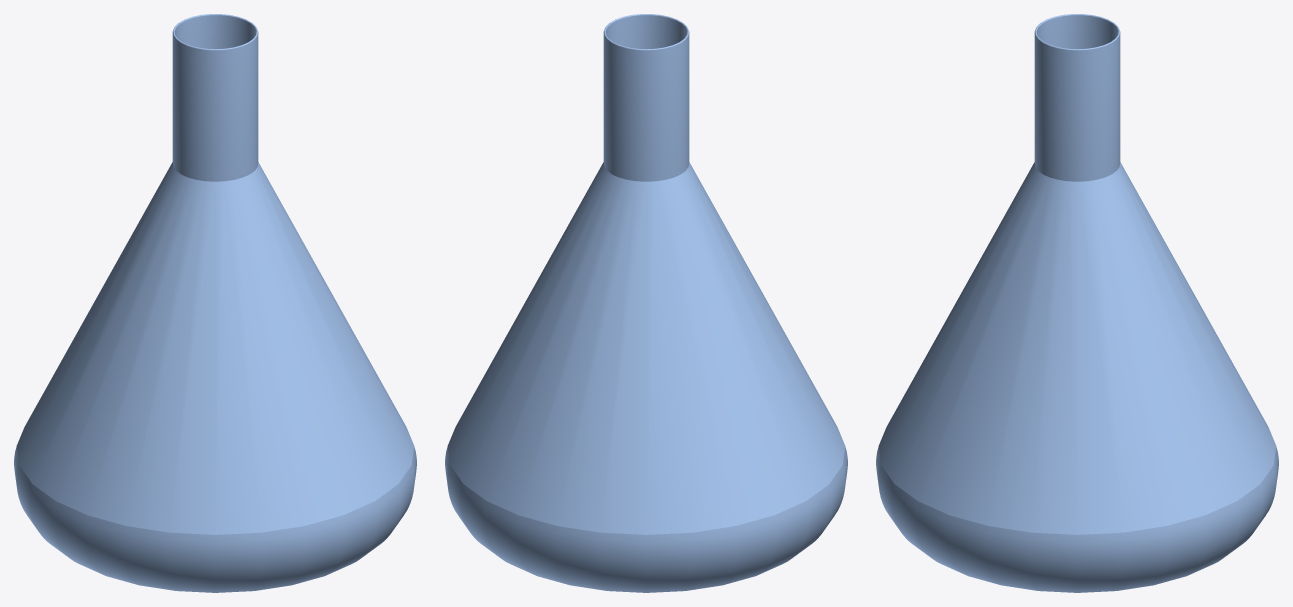
The model's file is beaker.glb.
3 renders of one model, left to right at view 1: azimuth 30°, elevation 25°; view 2: azimuth 150°, elevation 25°; view 3: azimuth 270°, elevation 25°, orthographic.
Visible parts, largest first — view 1: SketchUp; view 2: SketchUp; view 3: SketchUp.
Boxes of the visible parts, bbox=[...] form: SketchUp: bbox=[14, 14, 416, 592]; SketchUp: bbox=[445, 14, 847, 592]; SketchUp: bbox=[876, 14, 1278, 592].
Bounding box in the file's own units: 2.26 × 3.04 × 2.26.
